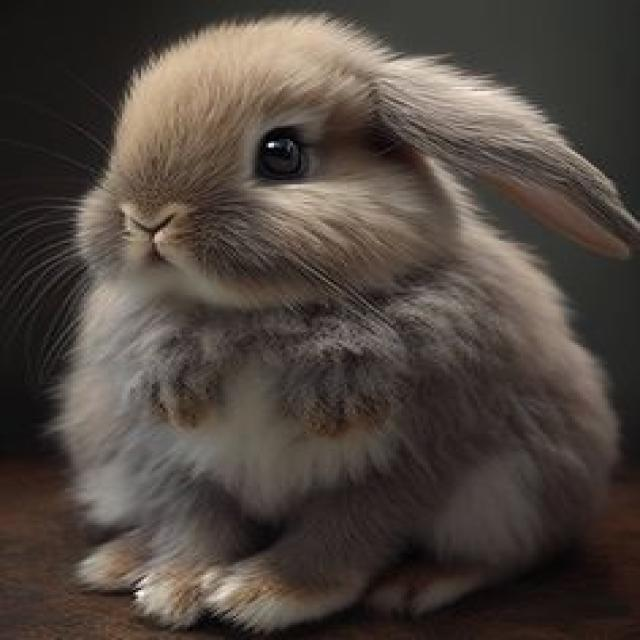Herbivorous: (54, 13, 640, 640)
